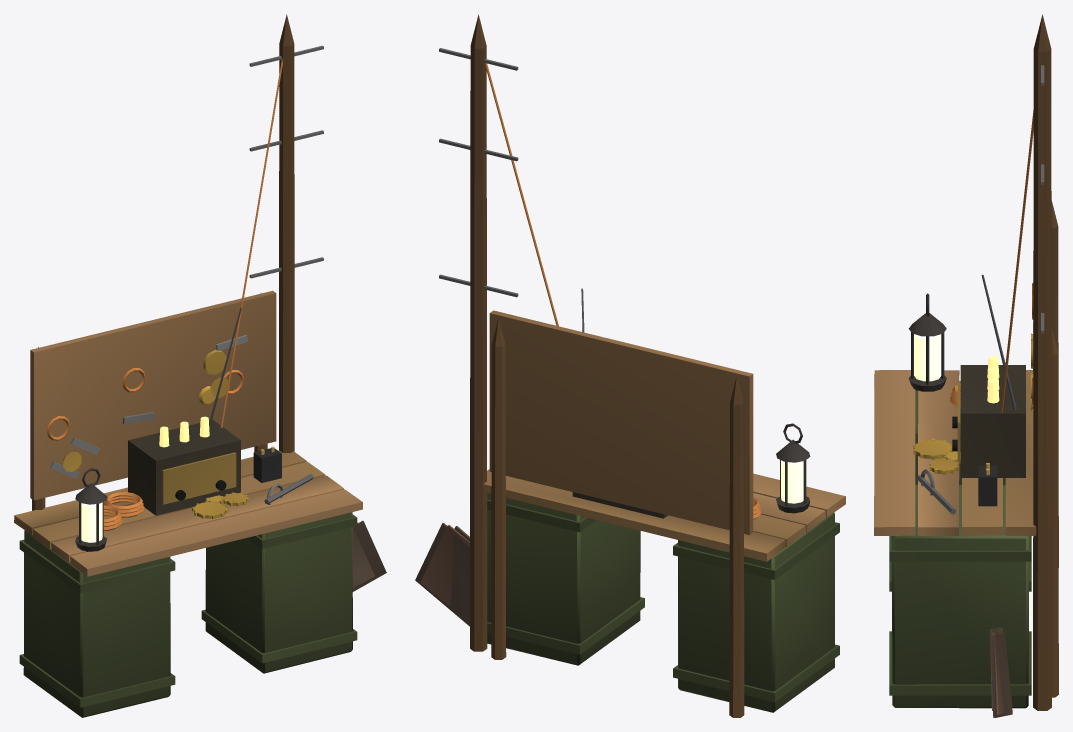
The model's file is tinker.glb.
3 renders of one model, left to right at view 1: azimuth 30°, elevation 25°; view 2: azimuth 150°, elevation 25°; view 3: azimuth 270°, elevation 25°, orthographic. The views are drawn at different scales.
Parts seen in each view (by area): view 1: Body.002, L2.002, L3.002, Lamp; view 2: Body.002, L2.002, L3.002, Lamp; view 3: Body.002, L3.002, L2.002, Lamp.
Part boxes in pixels (<box>): Body.002: <box>14,446,386,717</box>; L2.002: <box>30,290,276,510</box>; L3.002: <box>128,14,323,515</box>; Lamp: <box>81,502,102,542</box>; Body.002: <box>415,423,845,712</box>; L2.002: <box>489,310,753,717</box>; L3.002: <box>439,14,667,651</box>; Lamp: <box>781,460,803,503</box>; Body.002: <box>874,293,1036,717</box>; L3.002: <box>952,14,1051,710</box>; L2.002: <box>1031,201,1058,697</box>; Lamp: <box>914,334,941,381</box>.
Size of the model in its own units: 1.74 by 2.82 by 0.6764.
